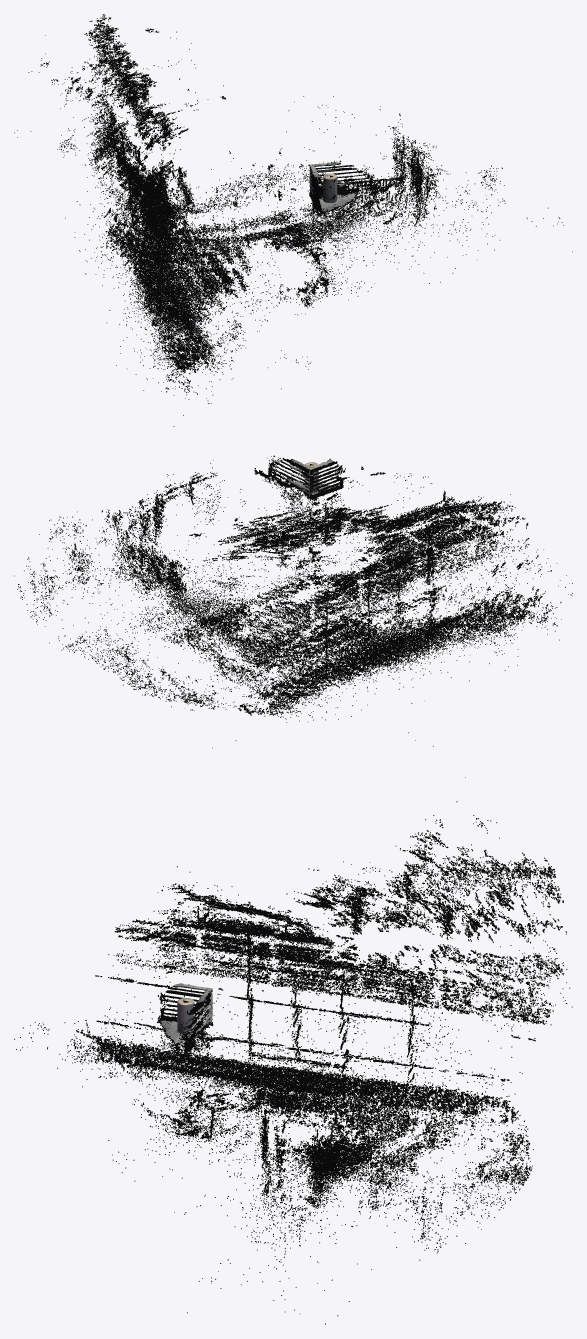
File: scan2.glb
The picture shows the model from 3 angles, top to bottom: view 1: azimuth 30°, elevation 25°; view 2: azimuth 150°, elevation 25°; view 3: azimuth 270°, elevation 25°; orthographic projection. The views are drawn at different scales.
Visible parts, largest first — view 1: Scan2; view 2: Scan2; view 3: Scan2.
Boxes of the visible parts, x1,y1,x2,y2 form: Scan2: (14,14,572,426); Scan2: (14,455,572,748); Scan2: (14,777,572,1324).
Size of the model in its own units: 16.04 by 10.93 by 13.69.
Materials: 1 (1 with a texture image).
